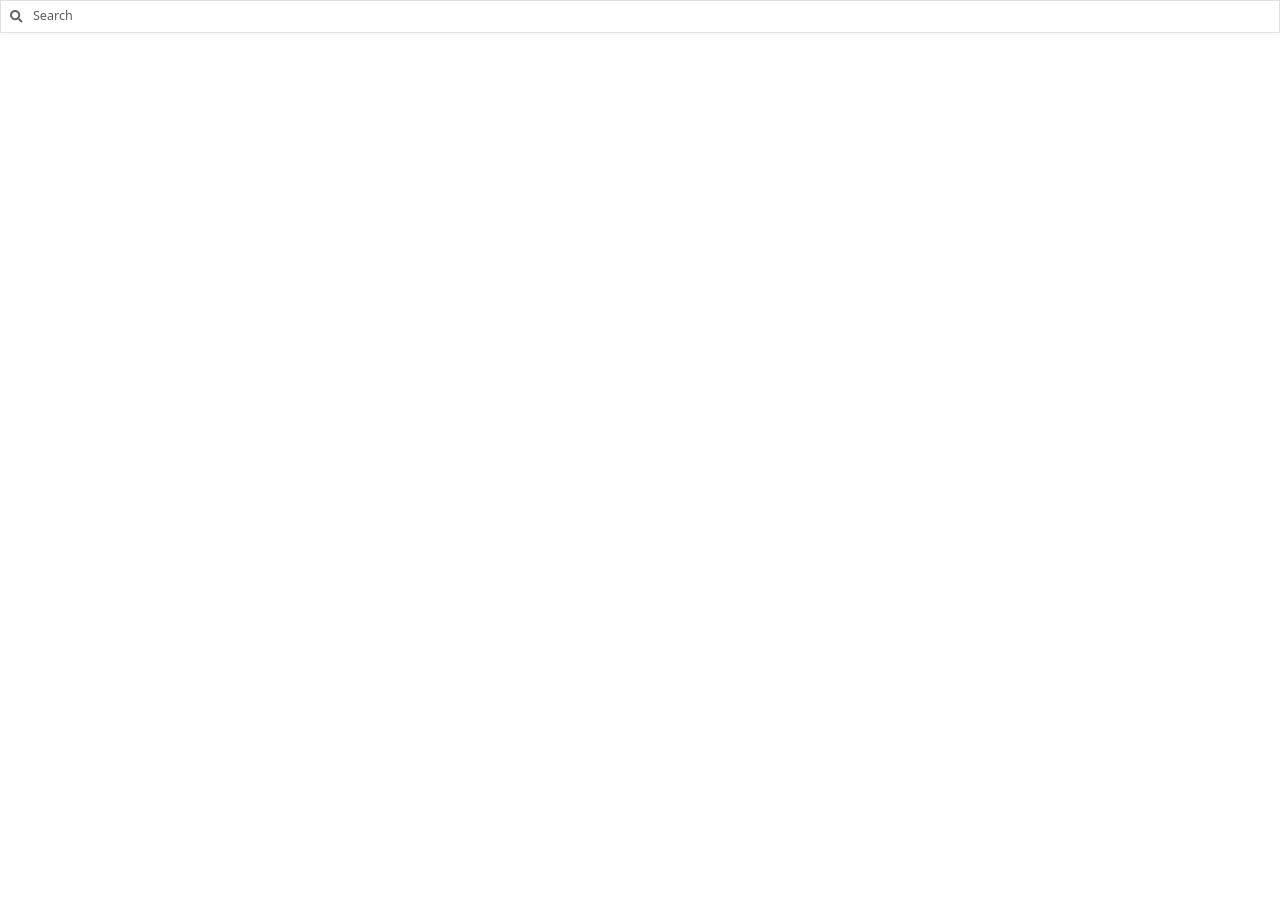
Test: late first-page thumbnails do not erase images from an appended page
This screenshot has width=1280, height=900.
Later steps or results of the test are not shown.
Type "rome" into the search field named "Search profiles, clubs, events, and sources" at (655, 16), box [32,1,1279,32]
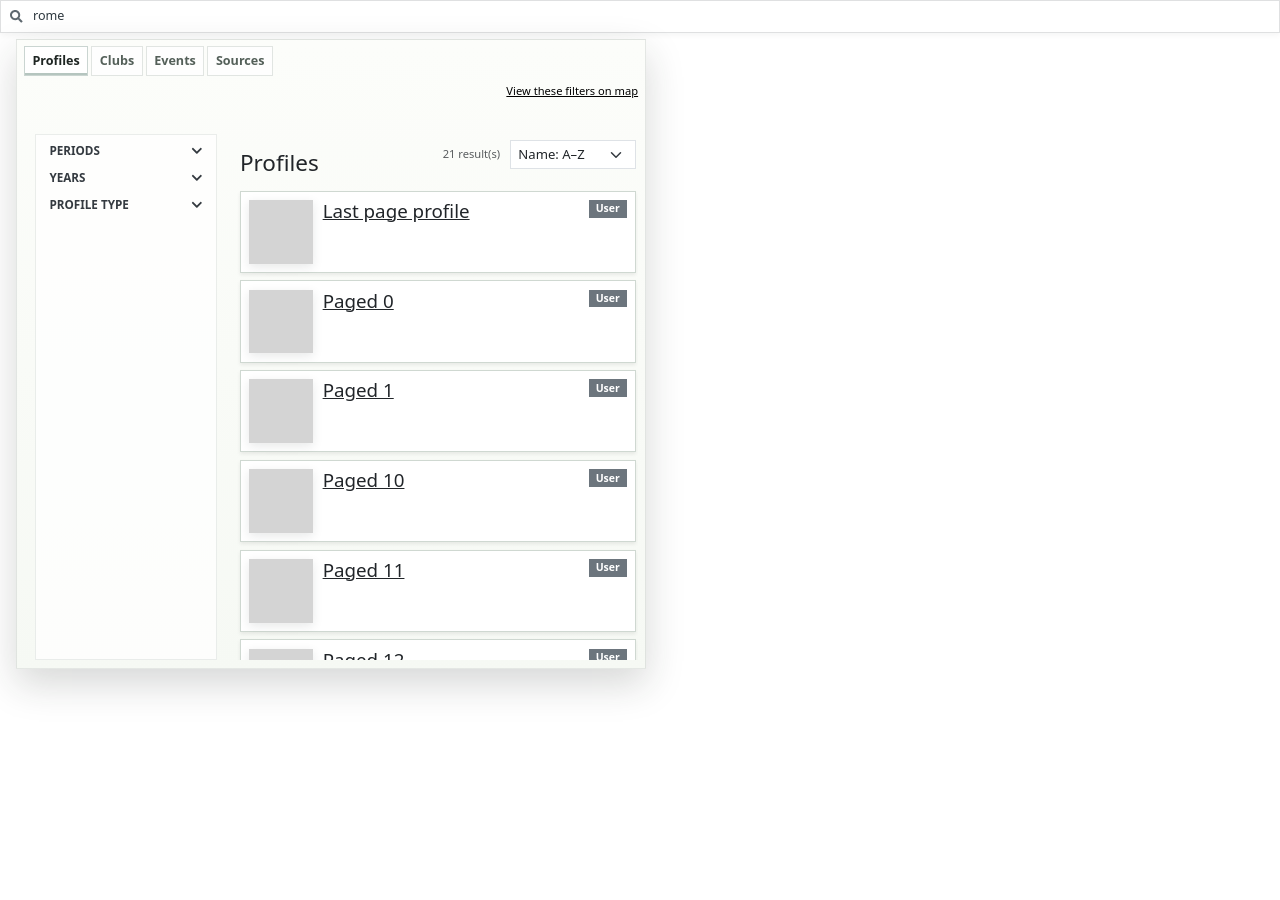
Now the link "Paged 0" is shown, box [323,288,394,312]
Now the link "Last page profile" is shown, box [323,198,470,223]
